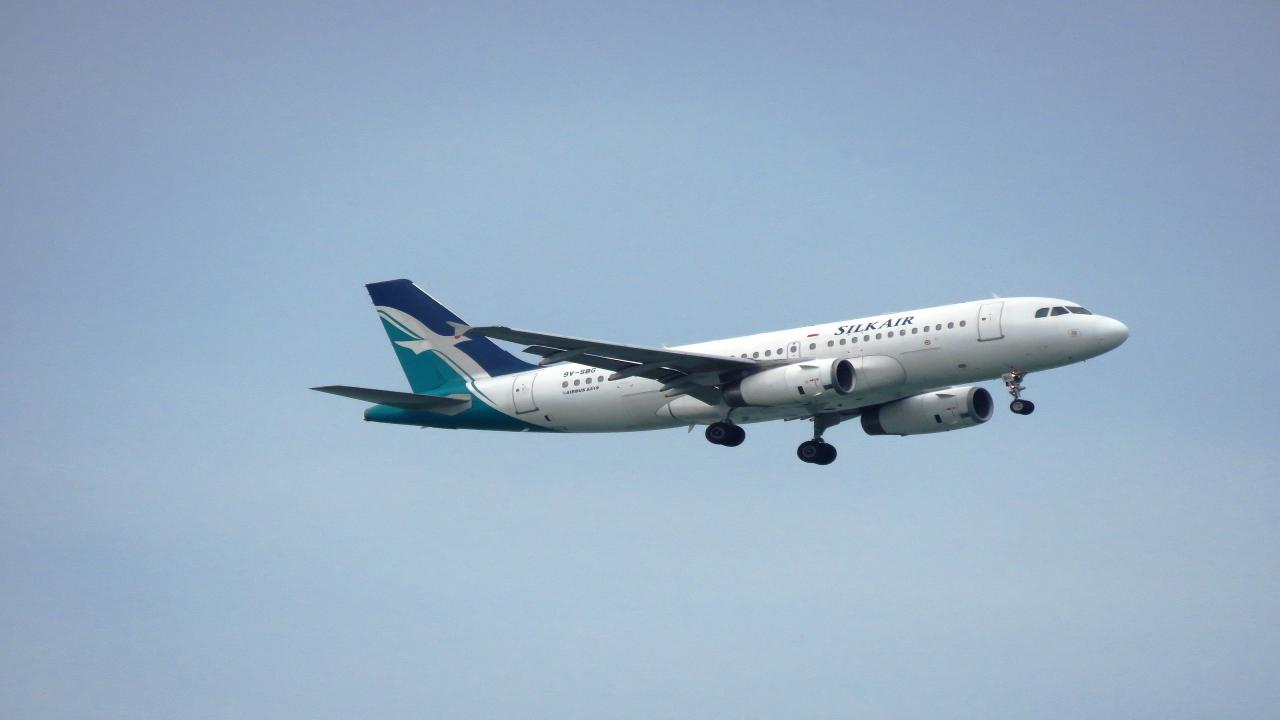Airplane: (294, 263, 1152, 477)
